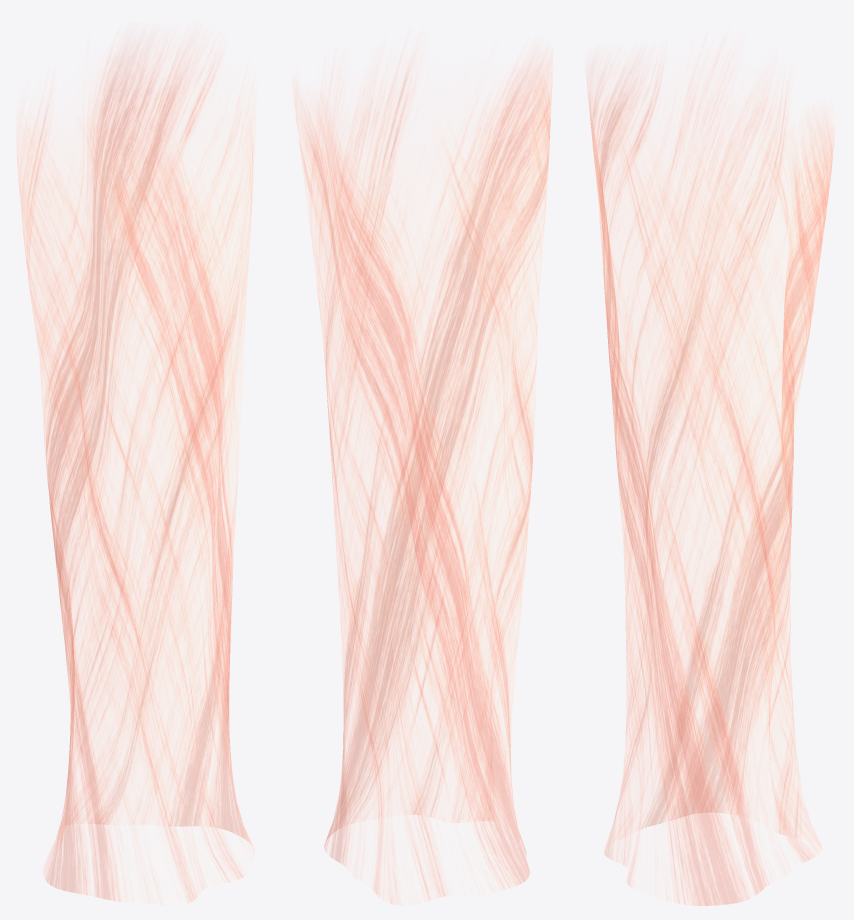
The model's file is clear_devil_mid_1.glb.
3 views of the same model, side by side, from view 1: azimuth 30°, elevation 25°; view 2: azimuth 150°, elevation 25°; view 3: azimuth 270°, elevation 25° (orthographic).
Visible parts, largest first — view 1: devil_mid_1; view 2: devil_mid_1; view 3: devil_mid_1.
Part boxes in pixels (box(x1,y1,x2,y2)): devil_mid_1: box(16, 43, 255, 904); devil_mid_1: box(294, 57, 552, 905); devil_mid_1: box(586, 52, 835, 905).
Size of the model in its own units: 6.31 by 21.2 by 6.27.
1 material, 1 textured.
